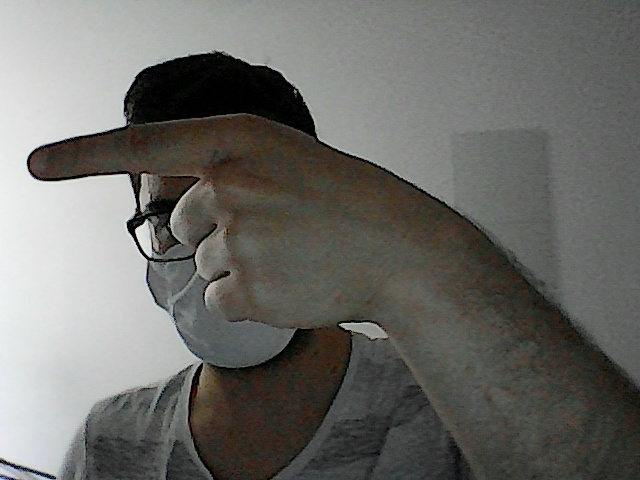right: (25, 104, 387, 342)
